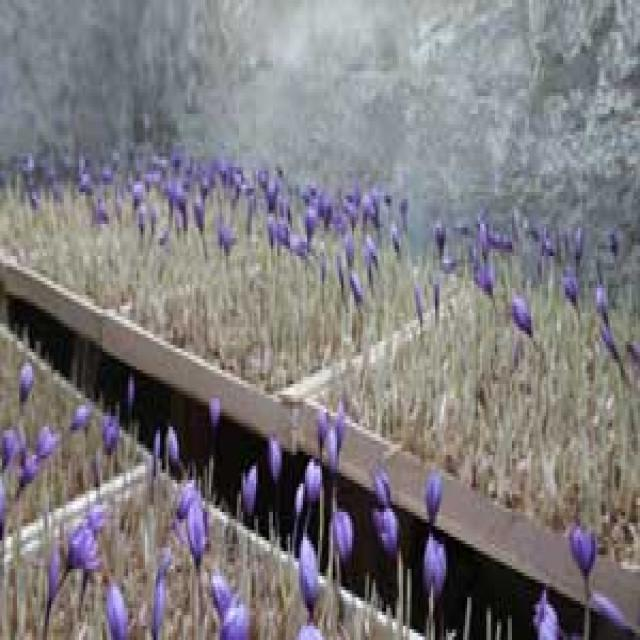Flower: (150, 562, 190, 640), (211, 574, 258, 640), (370, 470, 404, 558), (290, 528, 328, 606), (102, 574, 144, 640), (243, 457, 276, 540), (64, 522, 108, 580), (422, 534, 450, 616), (568, 523, 600, 588), (593, 286, 623, 344), (157, 414, 184, 474), (532, 594, 563, 640), (506, 293, 538, 337), (471, 252, 503, 296), (321, 420, 348, 472), (184, 501, 209, 557), (15, 443, 42, 492), (430, 466, 448, 530), (14, 352, 36, 403), (72, 398, 96, 443), (432, 274, 450, 334), (100, 407, 119, 462), (0, 425, 18, 483), (40, 422, 63, 461), (205, 388, 224, 427), (217, 218, 230, 258), (367, 233, 378, 270)
